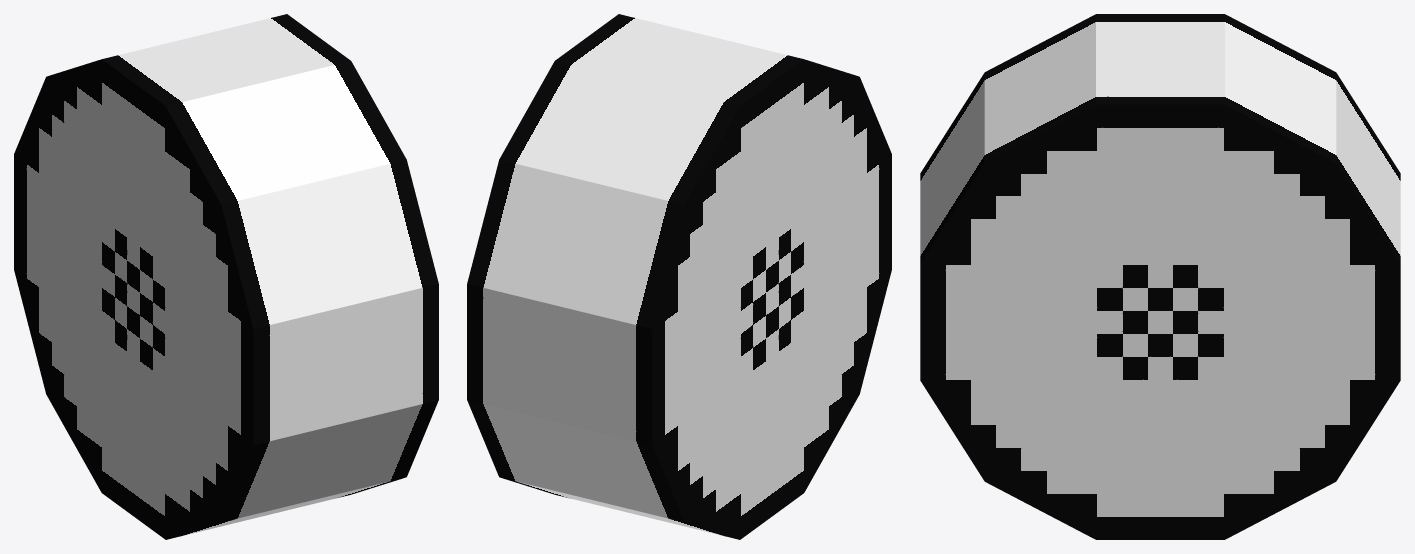
Rendered from hexagonal.gltf.
3 renders of one model, left to right at view 1: azimuth 30°, elevation 25°; view 2: azimuth 150°, elevation 25°; view 3: azimuth 270°, elevation 25°, orthographic.
Parts seen in each view (by area): view 1: cylinder; view 2: cylinder; view 3: cylinder.
Boxes of the visible parts, x1=… form: cylinder: x1=14, y1=14, x2=438, y2=539; cylinder: x1=467, y1=14, x2=891, y2=539; cylinder: x1=920, y1=14, x2=1400, y2=539.
Bounding box in the file's own units: 0.5312 × 1.19 × 1.19.
1 material, 1 textured.
